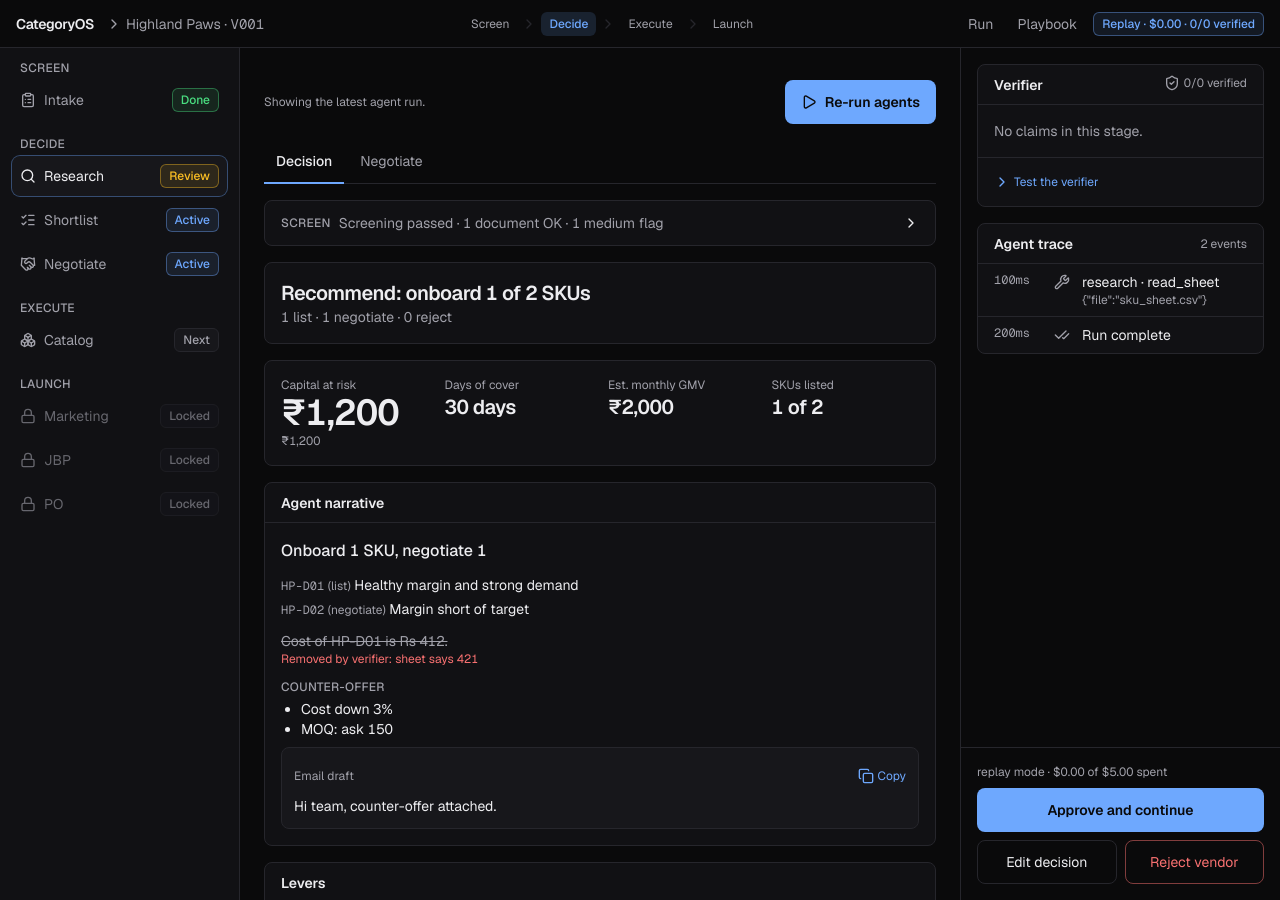
Test: Workspace run wiring › shows the 409 stale_approval problem and fix in a banner
This screenshot has width=1280, height=900.
Check: the heading "Recommend: onboard 1 of 2 SKUs" is shown, box x1=281 y1=279 x2=590 y2=307
Click the button "Approve and continue": (1120, 810) x1=977 y1=788 x2=1264 y2=832
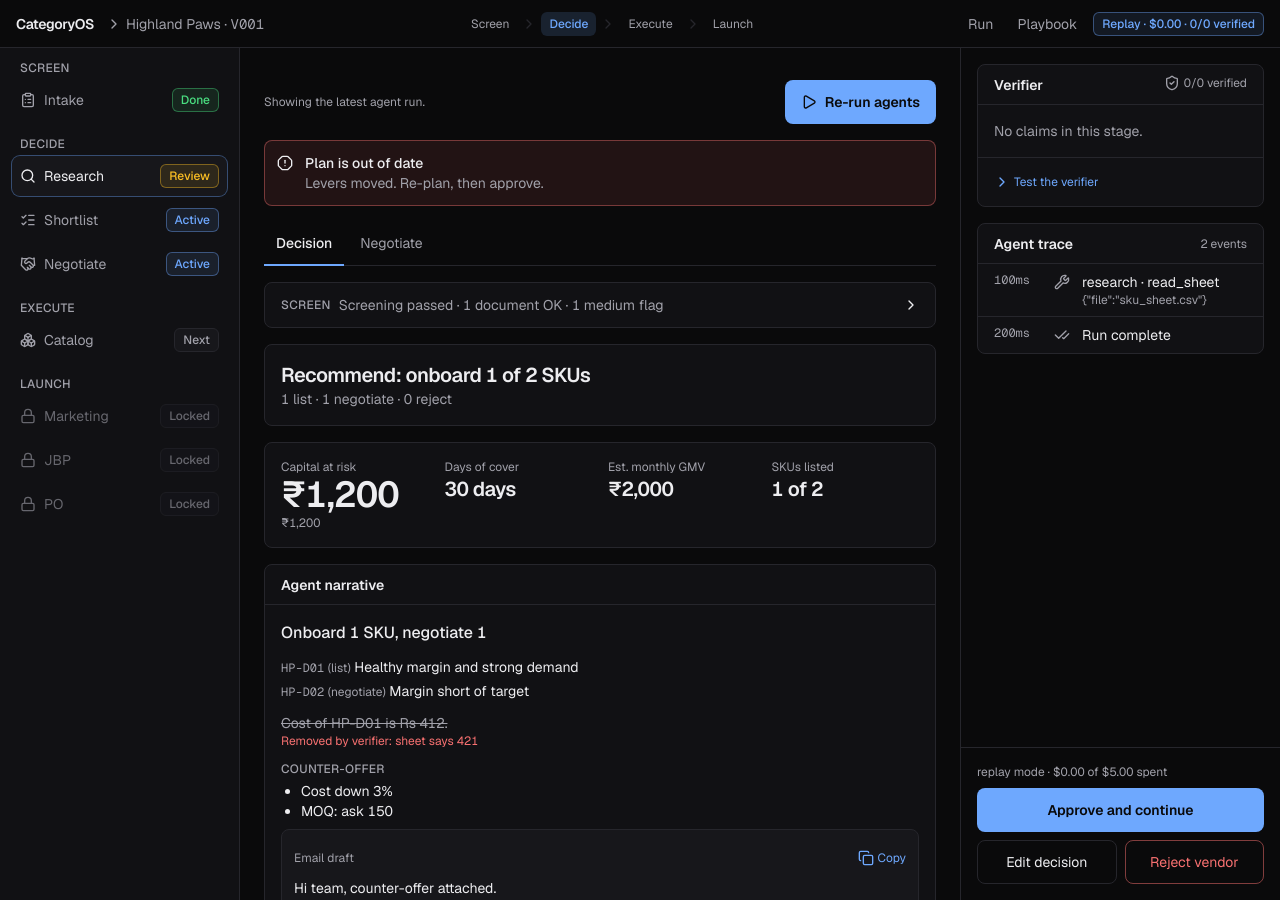
Check: the message shows "Plan is out of date", box x1=305 y1=154 x2=423 y2=172
Check: the message shows "Re-plan, then approve.", box x1=305 y1=174 x2=544 y2=192
